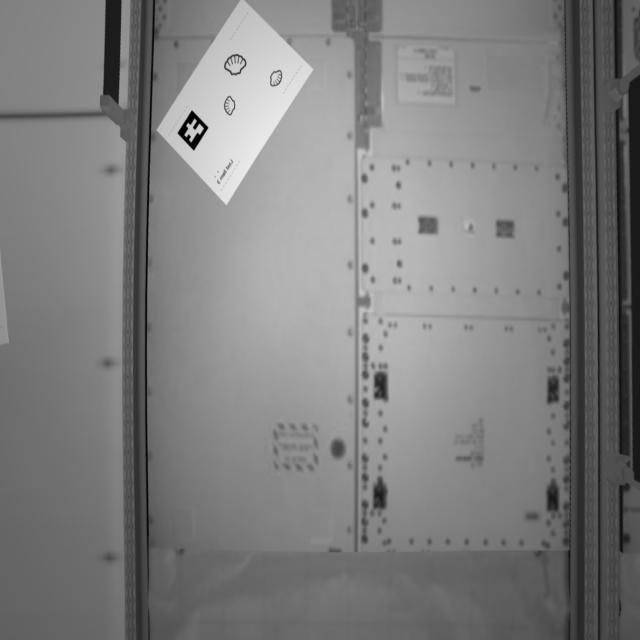shell: (220, 52, 255, 86), (220, 95, 241, 117), (268, 66, 285, 92)
